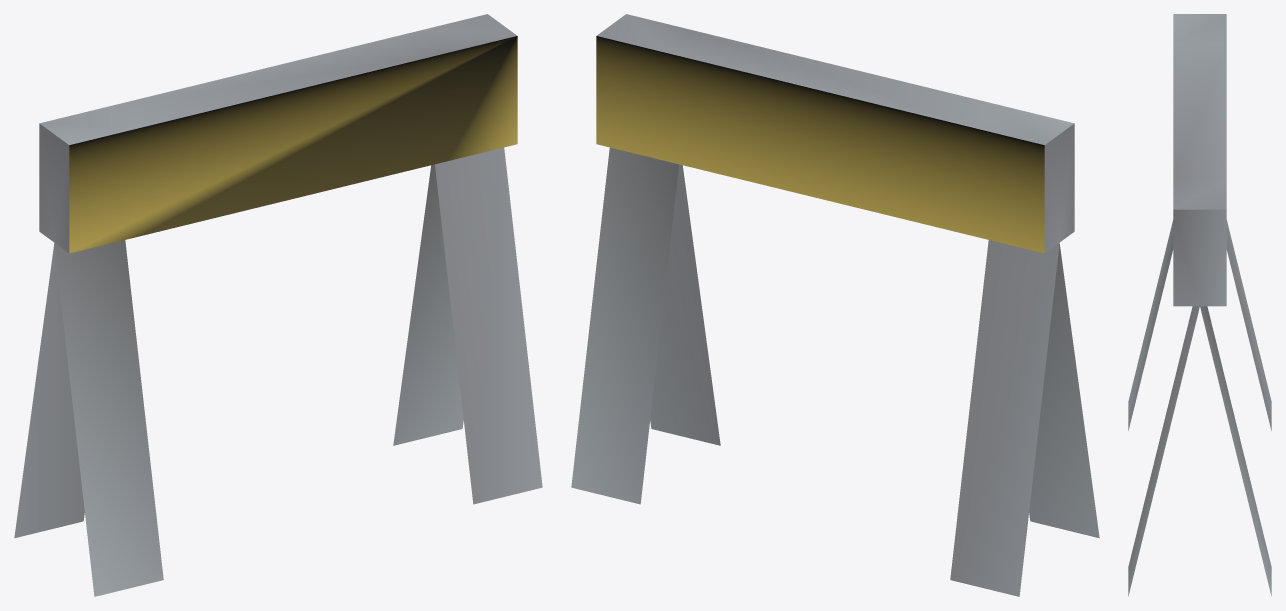
File: detail-barrier-type-a.glb
3 views of the same model, side by side, from view 1: azimuth 30°, elevation 25°; view 2: azimuth 150°, elevation 25°; view 3: azimuth 270°, elevation 25° (orthographic). The views are drawn at different scales.
Parts seen in each view (by area): view 1: detail-barrier-type-a; view 2: detail-barrier-type-a; view 3: detail-barrier-type-a.
Part boxes in pixels (x1,y1,x2,y2): detail-barrier-type-a: (14,14,542,596); detail-barrier-type-a: (571,14,1099,596); detail-barrier-type-a: (1128,14,1271,596).
Size of the model in its own units: 0.433 by 0.4 by 0.134.
